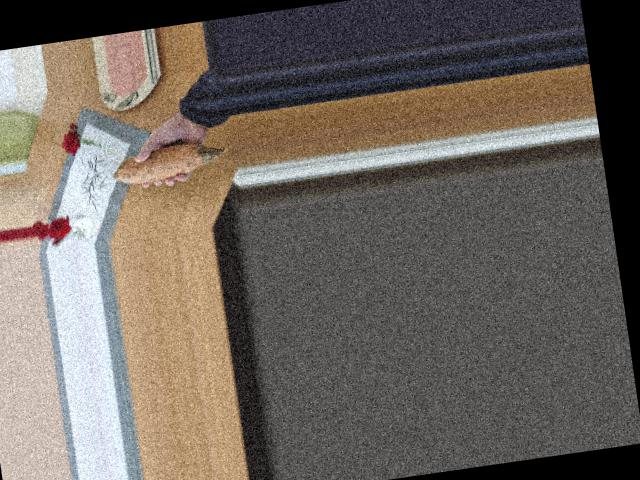sweet_potato: (106, 129, 220, 192)
